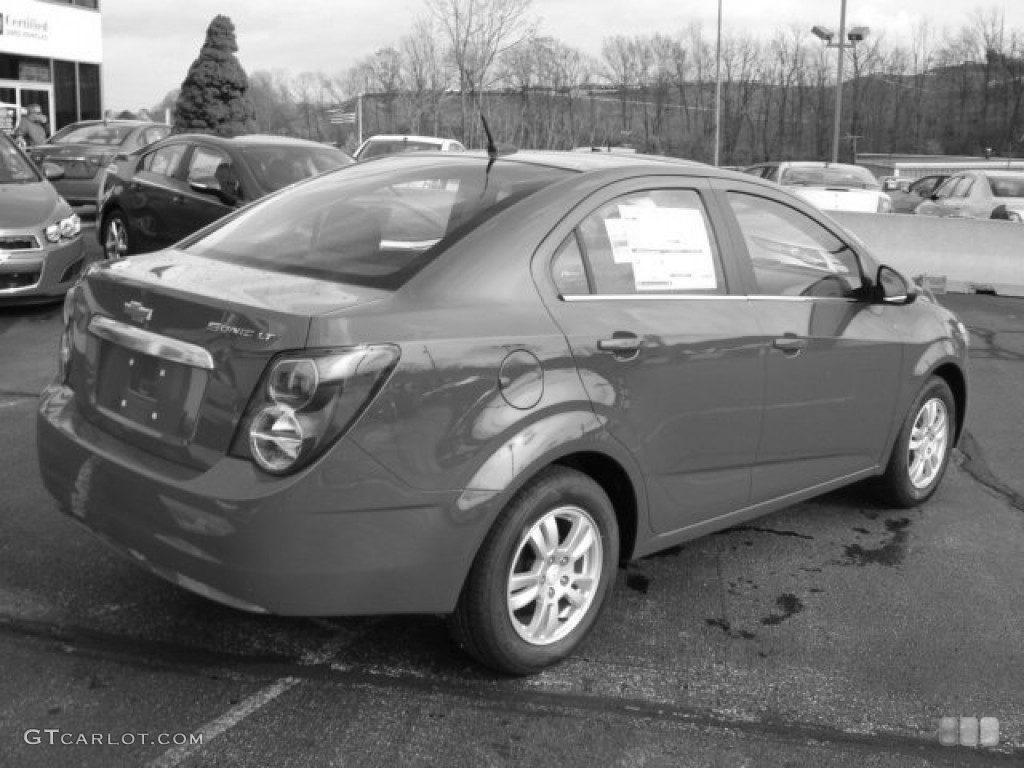car: (28, 55, 974, 675)
